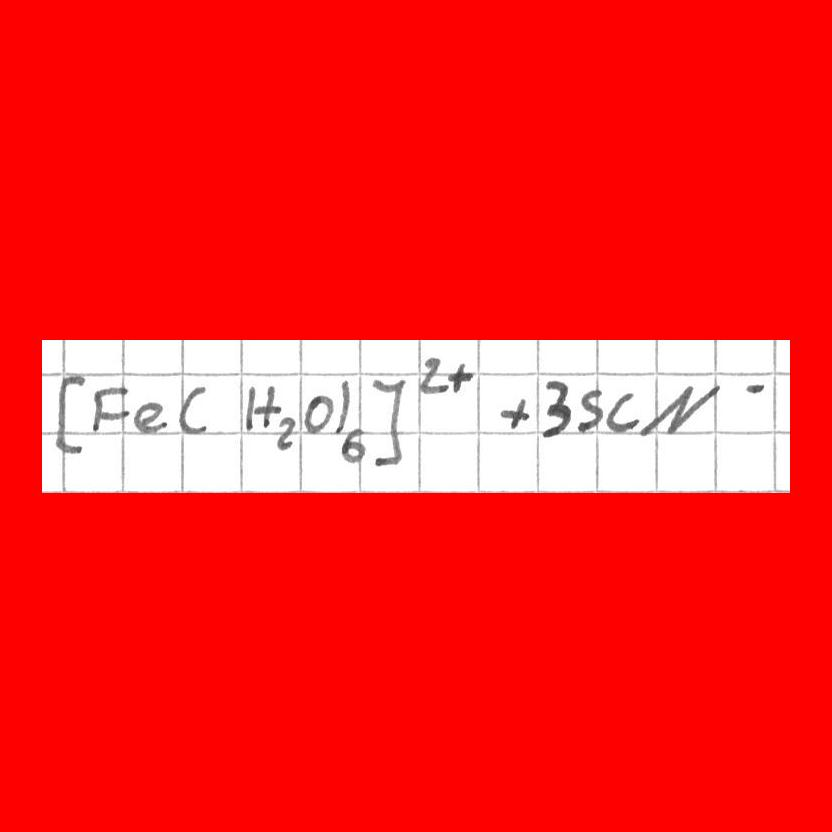Char: (638, 382, 723, 438), (369, 372, 412, 474), (51, 368, 89, 458), (89, 383, 133, 432), (242, 380, 281, 433), (542, 376, 573, 442), (175, 380, 210, 438), (606, 387, 646, 434), (415, 353, 449, 399), (132, 395, 169, 434), (489, 394, 524, 435), (303, 392, 334, 437), (575, 384, 602, 432), (339, 424, 368, 465), (445, 357, 475, 394), (334, 376, 351, 436), (275, 414, 298, 450), (741, 379, 769, 399)
